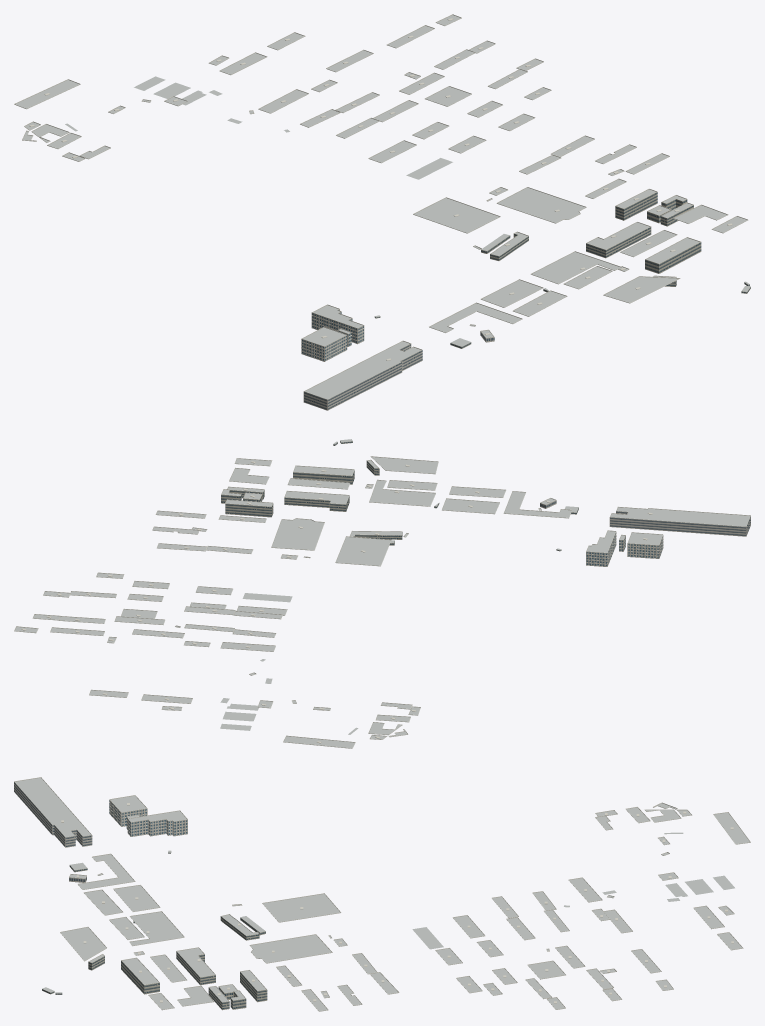
File: Background_Changed_Batches.glb
3 views of the same model, one above another, from view 1: azimuth 30°, elevation 25°; view 2: azimuth 150°, elevation 25°; view 3: azimuth 270°, elevation 25° (orthographic). The views are drawn at different scales.
Parts seen in each view (by area): view 1: Buildings_0_0_4, Buildings_0_-1_4, Buildings_0_0_11, Buildings_0_-1_11, Buildings_0_-1_0, Buildings_0_-1_1, Buildings_0_-1_14, Buildings_0_-1_12; view 2: Buildings_0_0_4, Buildings_0_-1_4, Buildings_0_0_11, Buildings_0_-1_11, Buildings_0_-1_0, Buildings_0_-1_1, Buildings_0_-1_14, Buildings_0_-1_12; view 3: Buildings_0_0_4, Buildings_0_-1_4, Buildings_0_0_11, Buildings_0_-1_11, Buildings_0_-1_0, Buildings_0_-1_14, Buildings_0_-1_1, Buildings_0_-1_12.
Boxes of the visible parts, box(x1,y1,x2,y2) form: Buildings_0_0_4: box(14, 15, 668, 232); Buildings_0_-1_4: box(302, 189, 750, 399); Buildings_0_0_11: box(14, 14, 669, 233); Buildings_0_-1_11: box(301, 188, 747, 399); Buildings_0_-1_0: box(374, 192, 750, 348); Buildings_0_-1_1: box(303, 282, 749, 410); Buildings_0_-1_14: box(301, 309, 364, 361); Buildings_0_-1_12: box(302, 312, 363, 360); Buildings_0_0_4: box(15, 511, 420, 748); Buildings_0_-1_4: box(222, 439, 750, 552); Buildings_0_0_11: box(14, 510, 420, 748); Buildings_0_-1_11: box(221, 456, 750, 566); Buildings_0_-1_0: box(221, 441, 578, 551); Buildings_0_-1_1: box(333, 442, 750, 536); Buildings_0_-1_14: box(586, 533, 663, 566); Buildings_0_-1_12: box(586, 533, 662, 566); Buildings_0_0_4: box(250, 803, 750, 1011); Buildings_0_-1_4: box(15, 778, 265, 1010); Buildings_0_0_11: box(249, 802, 750, 1011); Buildings_0_-1_11: box(14, 777, 266, 1009); Buildings_0_-1_0: box(42, 852, 267, 1010); Buildings_0_-1_14: box(109, 800, 187, 836); Buildings_0_-1_1: box(14, 782, 92, 994); Buildings_0_-1_12: box(109, 800, 187, 836).
Bounding box in the file's own units: 584 × 32.59 × 772.
7 materials, 2 textured.
